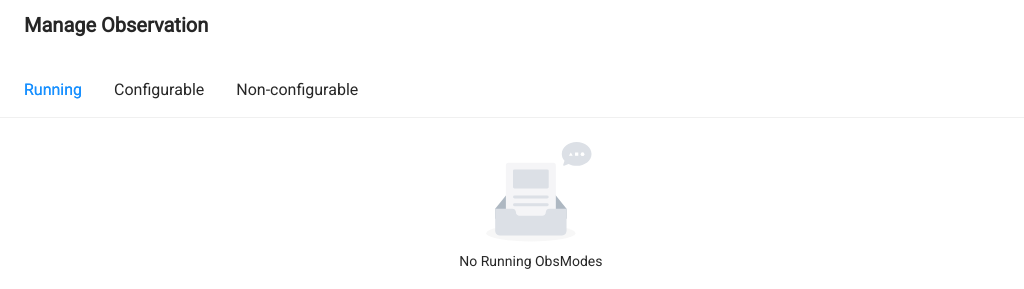
Test: Observation page › should render no obsModes if no obsModes are available in tab | ESW-450
The image size is (1024, 289).
Expected: the text "No Running ObsModes" is shown, [459, 253, 602, 269]
// User will click on configurable tab
What coordinates should you click on to do the following:
click the tab "Configurable"
I would click on:
 (159, 90)
Its box is [114, 77, 204, 102].
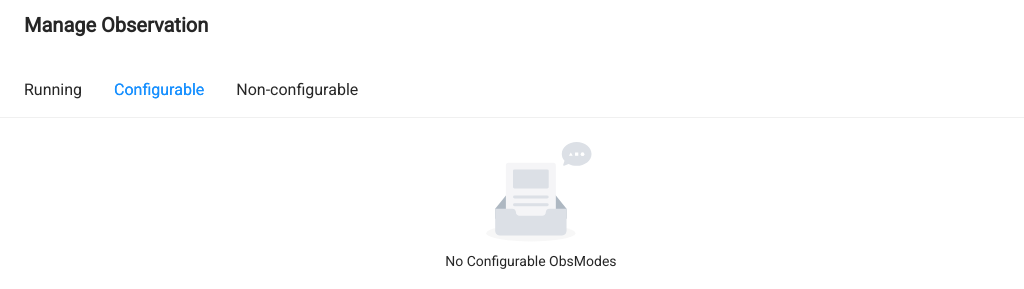
Now the text "No Configurable ObsModes" is shown, box [439, 250, 623, 272]
// User will click on non-configurable tab
What coordinates should you click on to do the following:
click the tab "Non-configurable"
I would click on:
 (297, 90)
Its box is [236, 77, 358, 102].
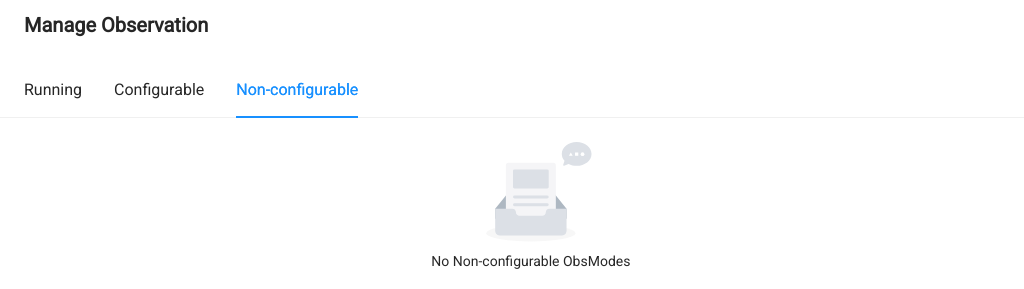
Now the text "No Non-configurable ObsModes" is shown, box [431, 250, 630, 272]
